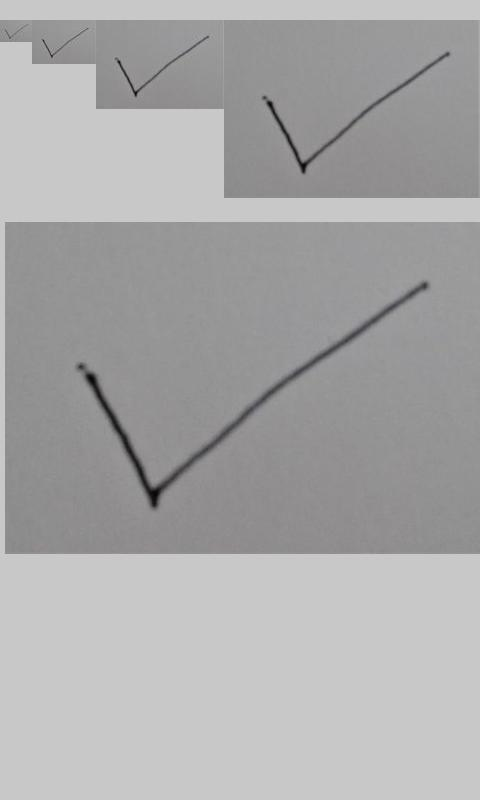check_box: (79, 281, 430, 508), (264, 52, 449, 174), (115, 35, 209, 95), (41, 28, 88, 58), (4, 24, 28, 39)
